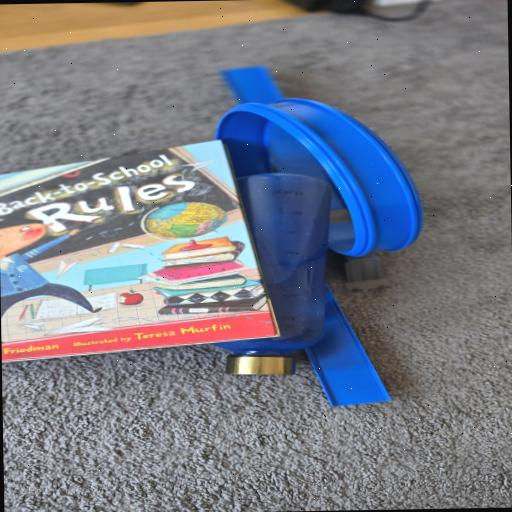bottle: (238, 176, 316, 375)
